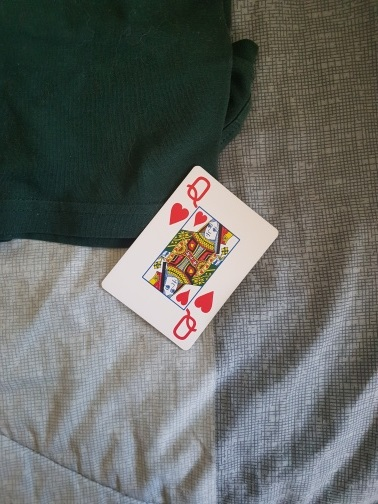queen: (99, 165, 275, 350)
